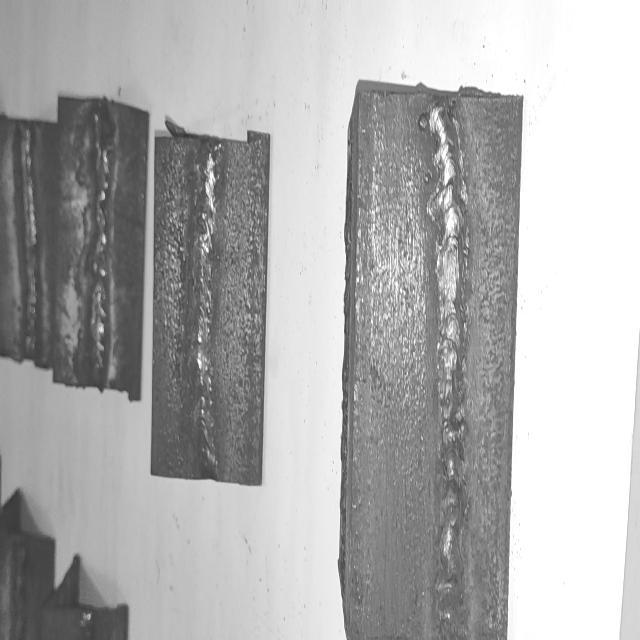Welding Line: (428, 106, 471, 628), (196, 143, 220, 471), (88, 110, 111, 380), (18, 124, 42, 356)
Workpiece: (336, 75, 528, 640), (146, 120, 274, 484), (51, 97, 153, 402), (0, 110, 62, 373)
